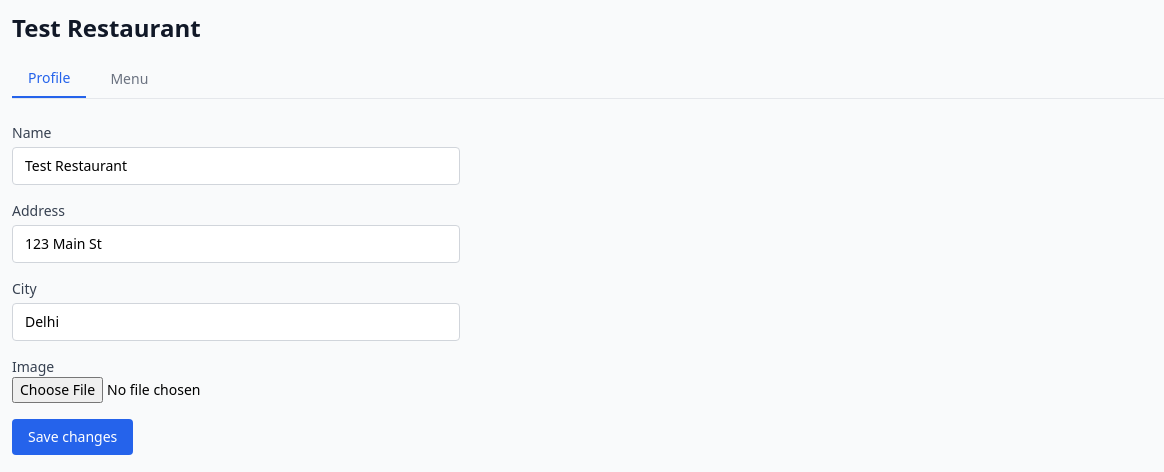
RestaurantDashboard › does NOT show the delete confirmation modal on initial menu-tab render
Expected: the heading "Test Restaurant" is shown, [12,11,201,44]
Click the button "menu". click: coordinates (129, 79)
box: [94,60,164,98]
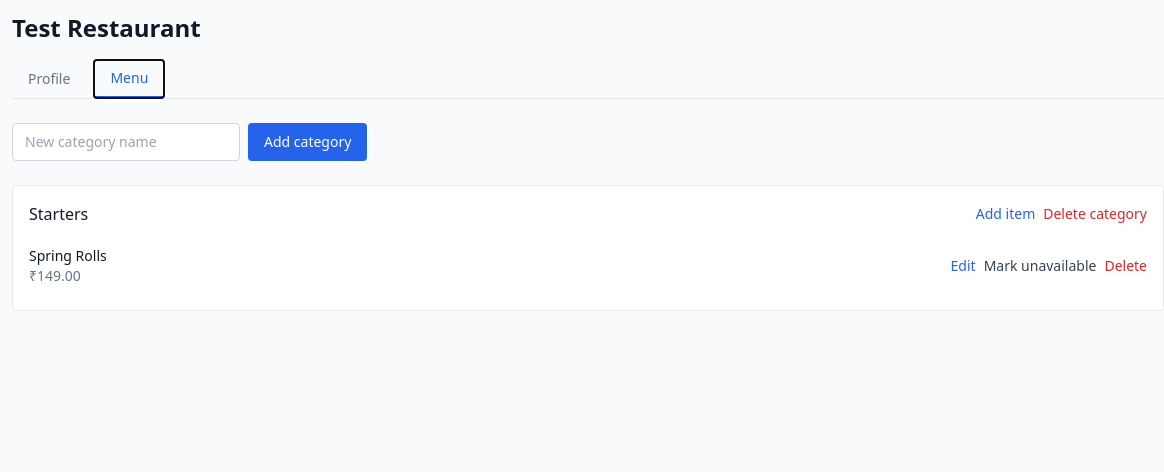
Expected: the text "Spring Rolls" is shown, [29,246,107,266]
